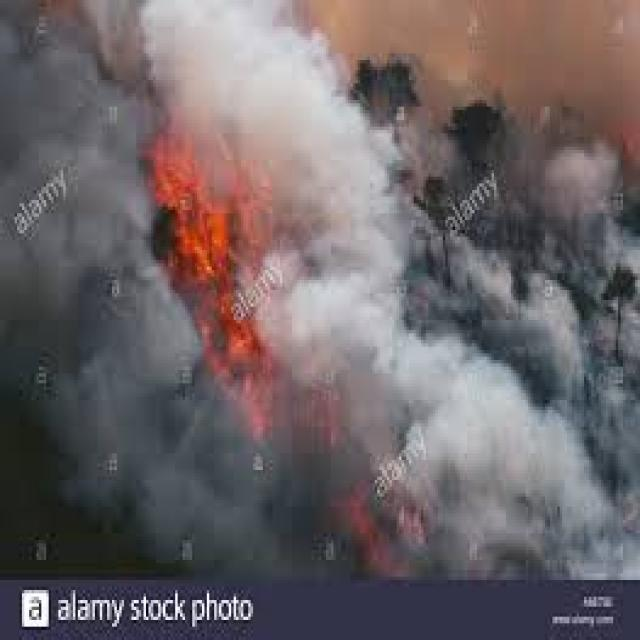Fire: (146, 143, 254, 353)
Smoke: (386, 342, 638, 579), (390, 100, 640, 337), (8, 353, 250, 574), (0, 6, 145, 348), (252, 251, 384, 575), (256, 2, 386, 244), (144, 0, 255, 140)
